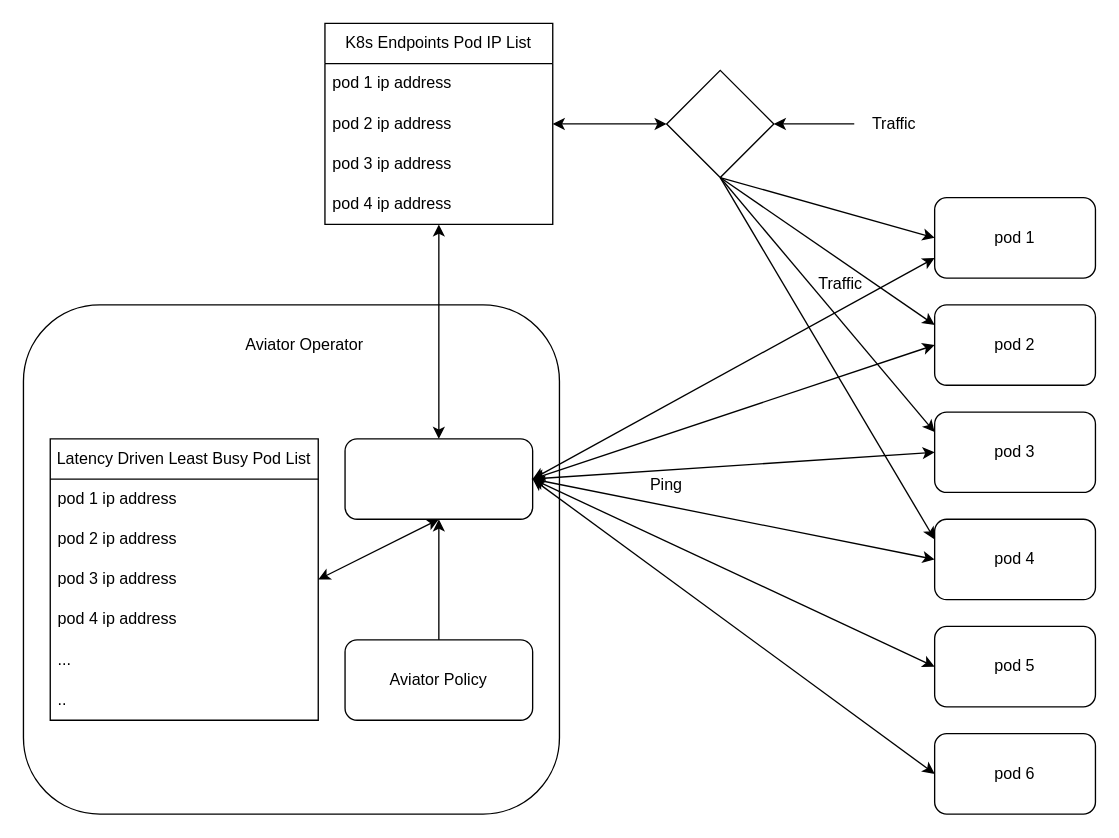
Image size: 1119x838. Some labels were removed from this diagram. The shapes that lost their labels are listed below. From the top down, each one's centre as x and y in pixels, then its label:
the point at 719,123: K8s Service
the point at 438,478: Aviator Controller
